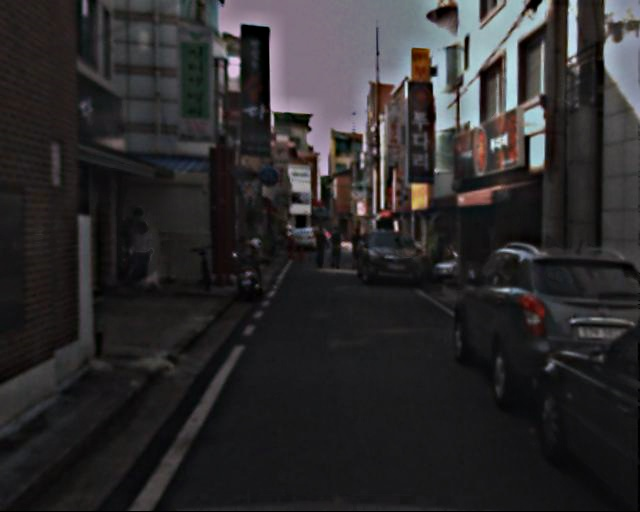person: (126, 219, 155, 290), (313, 225, 332, 272), (329, 228, 347, 273), (348, 229, 366, 273)
